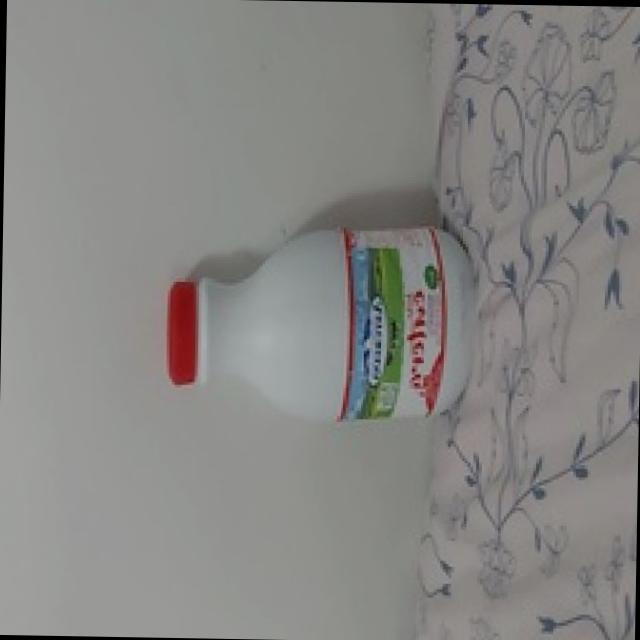good: (142, 205, 488, 429)
